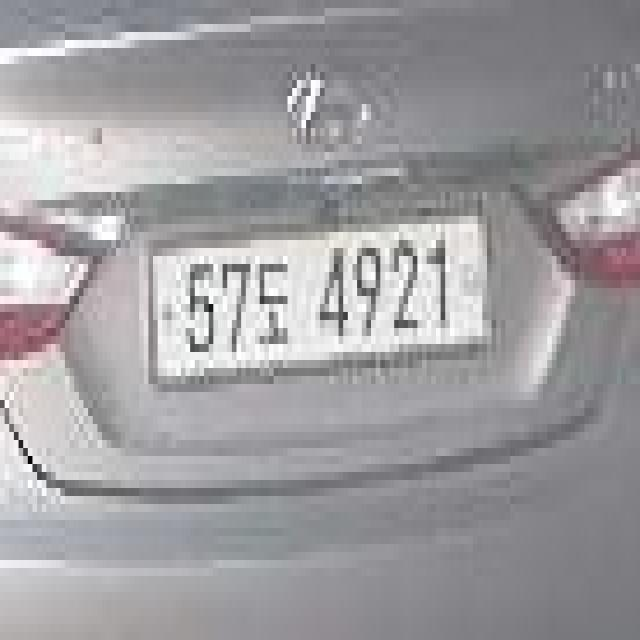plat: (146, 213, 493, 385)
